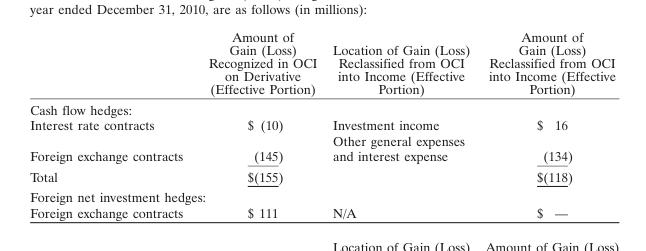table: (29, 28, 615, 220)
table column: (29, 28, 194, 220), (324, 28, 478, 220), (478, 28, 615, 220), (194, 28, 324, 220)
table column header: (29, 28, 615, 98)
table projected row header: (29, 98, 615, 116), (29, 186, 615, 204)
table row: (29, 28, 615, 98), (29, 132, 615, 165), (29, 165, 615, 186), (29, 98, 615, 116), (29, 186, 615, 204), (29, 116, 615, 132), (29, 204, 615, 220)
